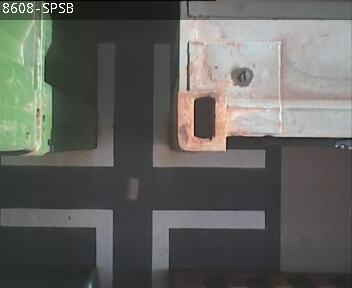groundmarker_1: (1, 44, 265, 168), (1, 208, 265, 288)
